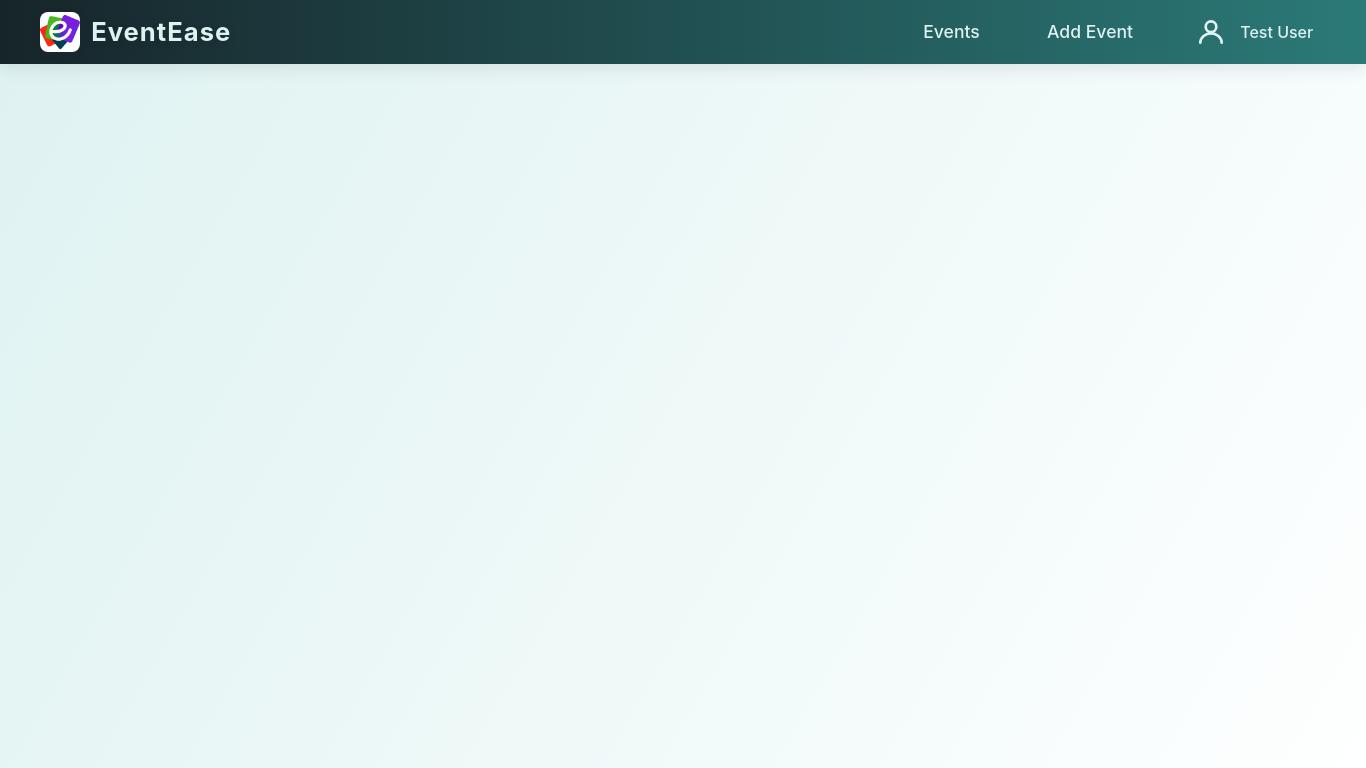
Test: Navbar component › shows profile and logout when logged in
Click the button.
click(1254, 32)  # box [1183,10,1326,54]
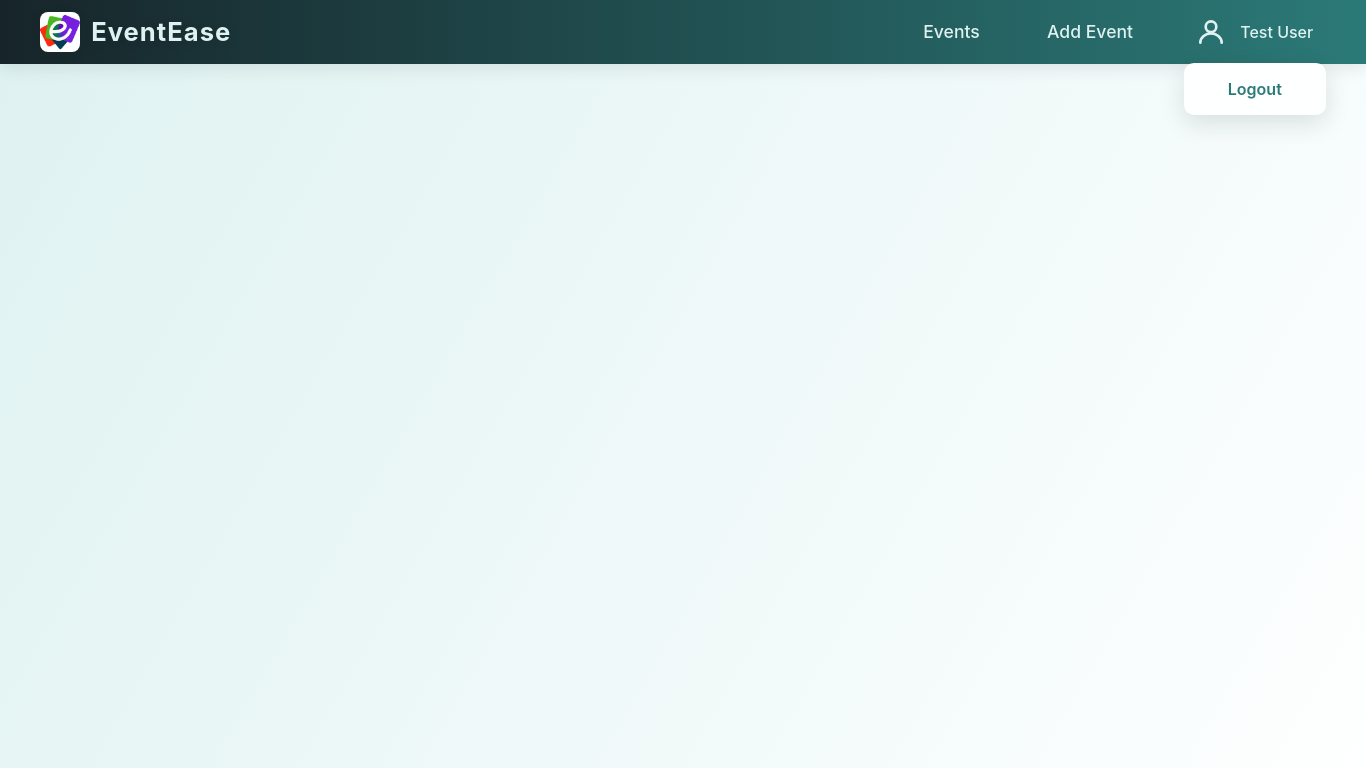
Check: the text "Test User" is shown, box [1240,22,1313,42]
Check: the button "Logout" is shown, box [1195,71,1315,107]
